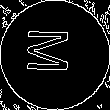M_E: (29, 32, 81, 78)
